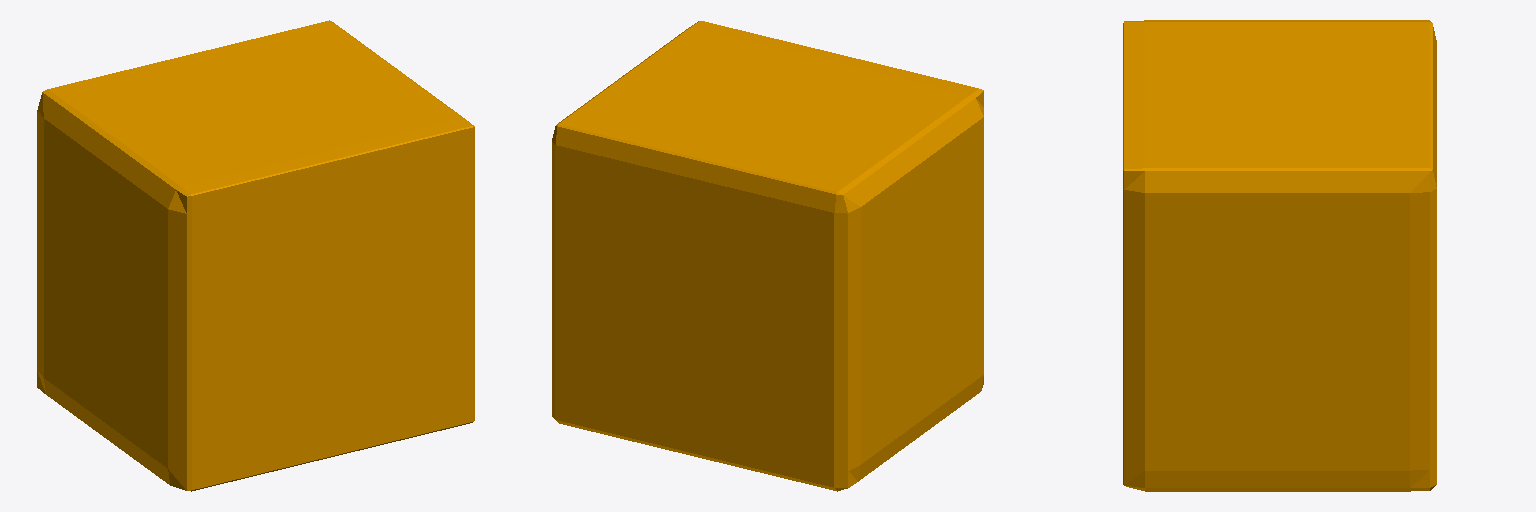
URDF robot description (cylinder_box_137):
<?xml version="1.0" encoding="utf-8"?>  <robot name="cylinder_box_137">   <link name="cylinder_box_137">     <visual>       <geometry>         <mesh filename="../meshes/box/box_137.stl" scale="1 1 1"/>       </geometry>     </visual>     <collision>       <geometry>         <mesh filename="../meshes/box/box_137.stl" scale="1 1 1"/>       </geometry>     </collision>     <inertial>        <origin         xyz="0 0 0"         rpy="0 0 0" />       <mass value="0.6126090171962121"/>       <origin rpy="0 0 0" xyz="0 0 0"/>       <inertia ixx="0.0006860435594495315" ixy="2.274880935663744e-08" ixz="6.267065055561303e-08" iyy="0.0008125531585885086" iyz="6.340918857223772e-07" izz="0.0007254174228926983"/>     </inertial>   </link>  </robot>

--- What the picture shows (computed from the rendered views, not written in the file) ---
Views: 3 orthographic renders of the robot side by side, from view 1: azimuth 30°, elevation 25°; view 2: azimuth 150°, elevation 25°; view 3: azimuth 270°, elevation 25°.
Robot: cylinder_box_137 — 1 links, 0 joints (none); root link cylinder_box_137; default pose: every joint at zero.
Links seen in each view (by area): view 1: cylinder_box_137; view 2: cylinder_box_137; view 3: cylinder_box_137.
Boxes of the visible links, x1,y1,x2,y2 form: cylinder_box_137: (37,20,474,491); cylinder_box_137: (552,21,983,491); cylinder_box_137: (1123,20,1436,491).
Bounding box of the posed robot: 0.0919 × 0.0769 × 0.0874 m (x, y, z).
1 mesh visuals loaded from 1 distinct referenced files (1 binary STL).